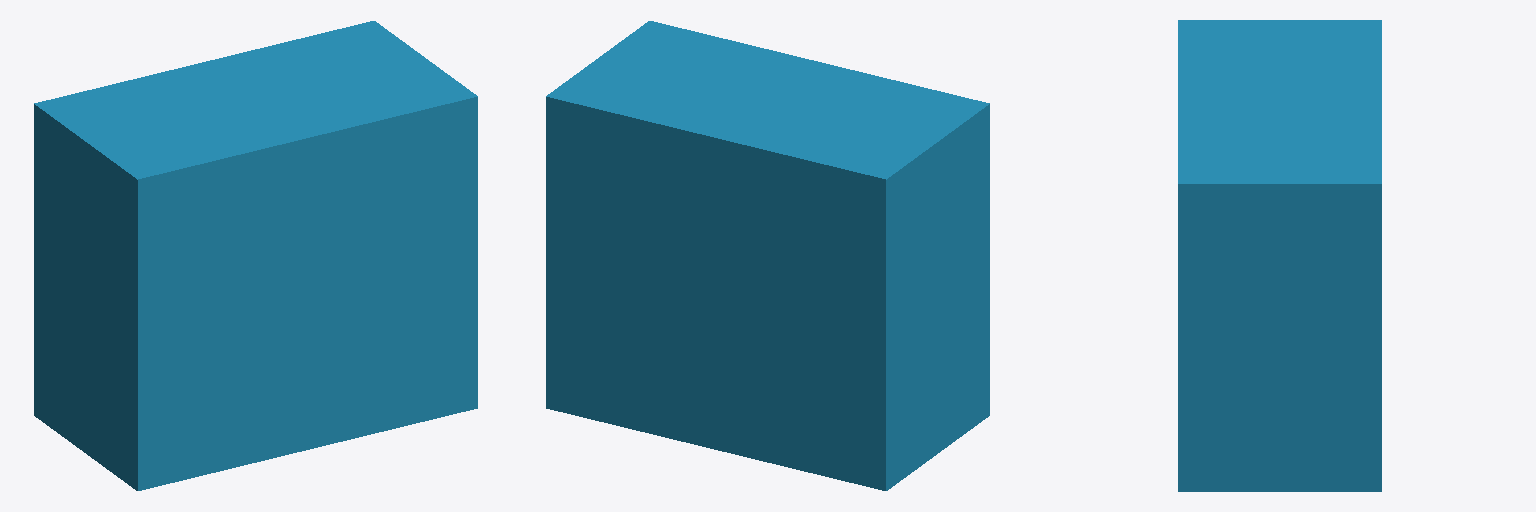
The robot description file, URDF, robot "cube":
<?xml version="1.0"?>
 <robot name="cube">
   <material name="blue">
     <color rgba="0.2 0.63137 0.788 1"/>
   </material>
   
   <material name="qw">
     <color rgba="0.062 0.16 0.21343700408935547 1"/>
   </material>
   
   
   <link name="base_link">
     <visual>
       <geometry>
         <box size="0.0823294 0.0941151 0.0496827"/>
       </geometry>
       <origin xyz="-0.02484135 -0.02484135 0.0411647" rpy="0 1.5707963 1.5707963"/>
       <material name="blue"/>
     </visual>
     <inertial>
       <mass value="0"/>
       <inertia ixx="1.0" ixy="0.0" ixz="0.0" iyy="1.0" iyz="0.0" izz="1.0"/>
     </inertial>
   </link>
 </robot>

--- Facts derived from the render (not from the file) ---
The picture shows the robot from 3 angles, left to right: view 1: azimuth 30°, elevation 25°; view 2: azimuth 150°, elevation 25°; view 3: azimuth 270°, elevation 25°; orthographic projection.
Model cube with 1 links and 0 joints (none), rooted at base_link, posed all joints at 0.
Links seen in each view (by area): view 1: base_link; view 2: base_link; view 3: base_link.
Boxes of the visible links, left/top/right/bottom form: base_link: left=34, top=21, right=477, bottom=490; base_link: left=546, top=21, right=989, bottom=490; base_link: left=1178, top=20, right=1381, bottom=491.
Bounding box of the posed robot: 0.0941 × 0.0497 × 0.0823 m (x, y, z).
Geometry: primitives only (box / cylinder / sphere), no mesh files.